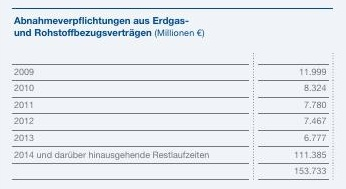table: (0, 0, 346, 189)
